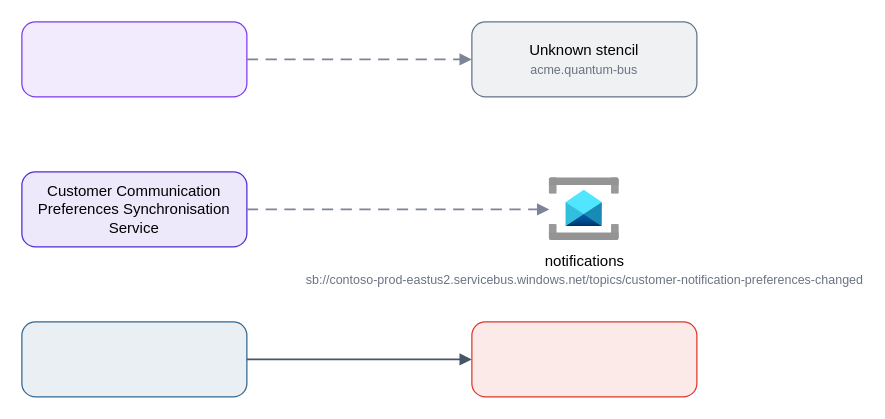
This 885x419 diagram has some shape labels left out. Here are the shapes that lost their labels. From the top down, the box of each, then its label:
(21, 21, 247, 97): orders orders.created.v1
(21, 321, 247, 397): DB
